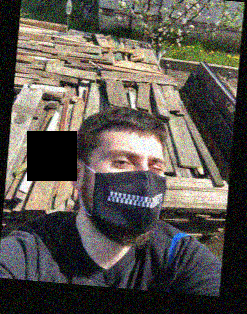with_mask: (89, 139, 166, 242)
